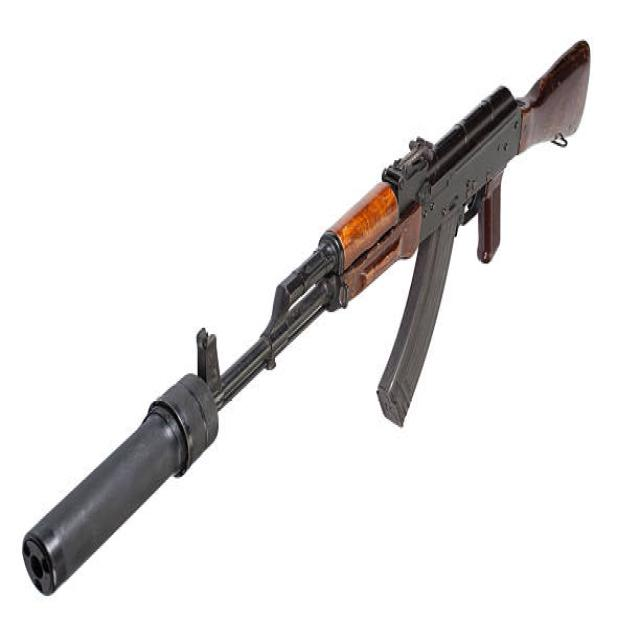rifle: (16, 33, 600, 602)
